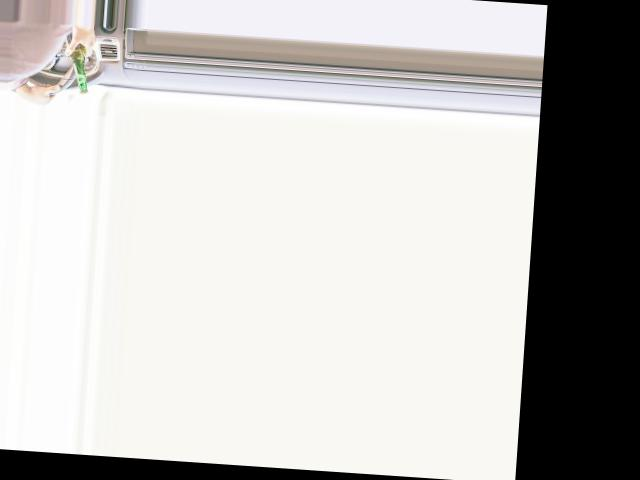beer: (61, 29, 92, 94)
